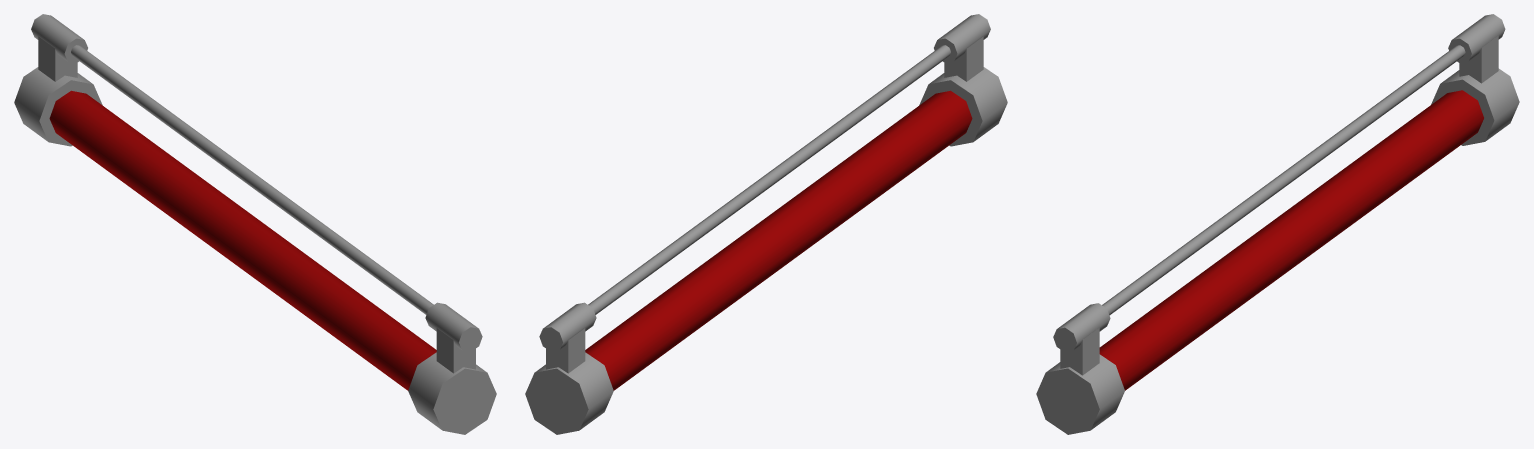
The model's file is M_prop_lamp_cylinder.FBX.
3 views of the same model, side by side, from view 1: azimuth 30°, elevation 25°; view 2: azimuth 150°, elevation 25°; view 3: azimuth 330°, elevation 25° (orthographic).
Visible parts, largest first — view 1: M_prop_lamp_cylinder; view 2: M_prop_lamp_cylinder; view 3: M_prop_lamp_cylinder.
Boxes of the visible parts, x1,y1,x2,y2 form: M_prop_lamp_cylinder: [14, 14, 496, 434]; M_prop_lamp_cylinder: [525, 14, 1007, 434]; M_prop_lamp_cylinder: [1036, 14, 1519, 434].
Bounding box in the file's own units: 37.19 × 434 × 61.92.
